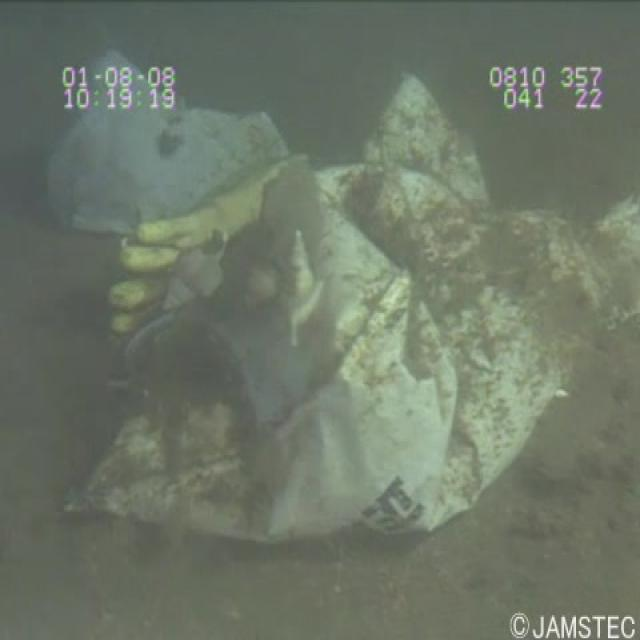plastic: (31, 35, 632, 569)
